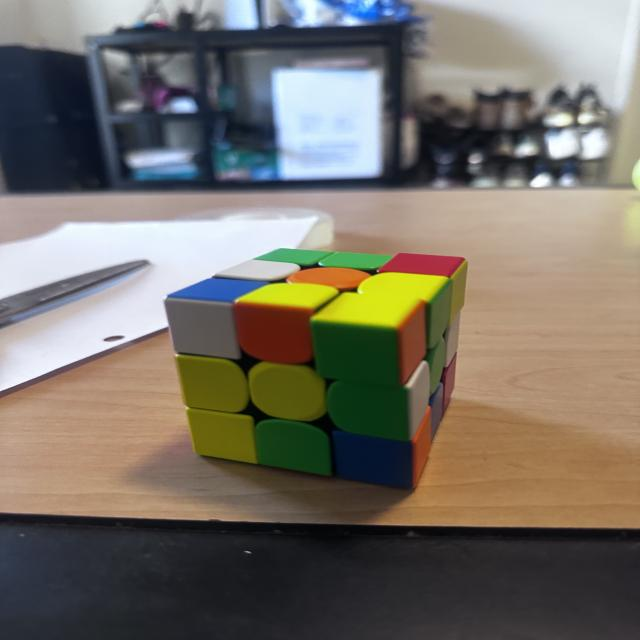sticker: (309, 286, 430, 388), (162, 277, 269, 363), (234, 282, 343, 365), (325, 360, 430, 441), (352, 272, 452, 354), (332, 412, 430, 489), (378, 252, 469, 326), (248, 360, 329, 423), (174, 353, 252, 415), (255, 417, 335, 477), (184, 406, 258, 465), (378, 252, 468, 279), (285, 266, 371, 292), (213, 258, 302, 282), (254, 248, 332, 269), (318, 251, 392, 273), (446, 256, 468, 324), (412, 410, 433, 481), (424, 335, 446, 396), (444, 310, 462, 366), (441, 352, 457, 414), (428, 382, 444, 442)
